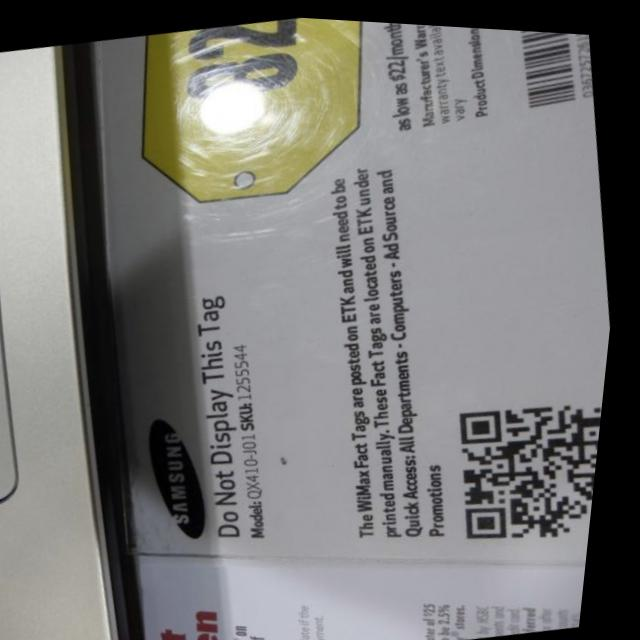qrcode: (454, 380, 612, 553)
